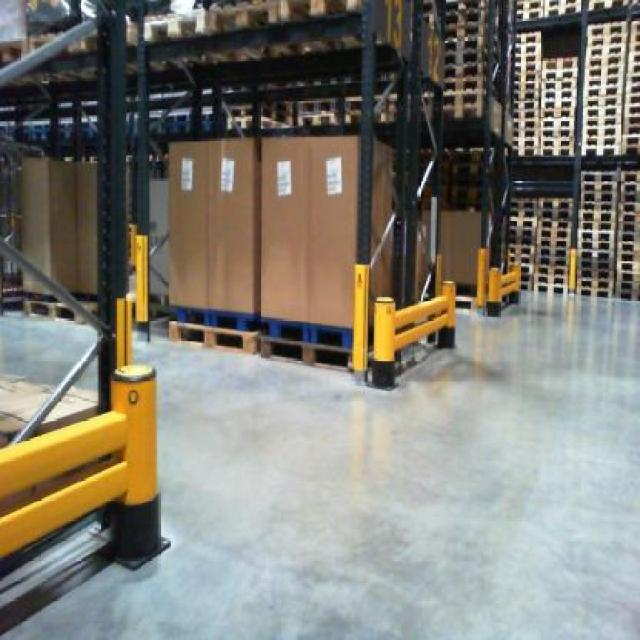pallet: (516, 26, 640, 300), (160, 314, 363, 376), (235, 92, 484, 122), (19, 287, 98, 327)
